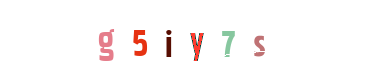5: (121, 0, 201, 80)
7: (150, 0, 230, 80)
G: (114, 0, 194, 80)
I: (123, 0, 203, 80)
S: (183, 0, 263, 80)
Y: (135, 0, 215, 80)
